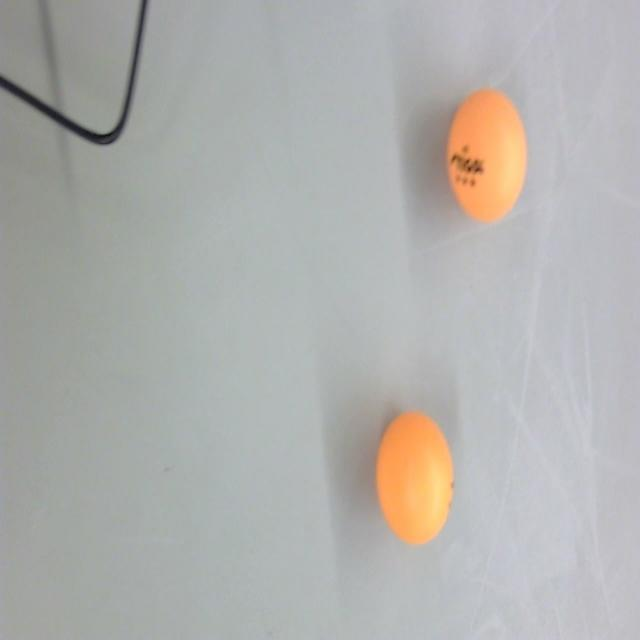ball: (445, 84, 531, 230), (375, 404, 457, 551)
